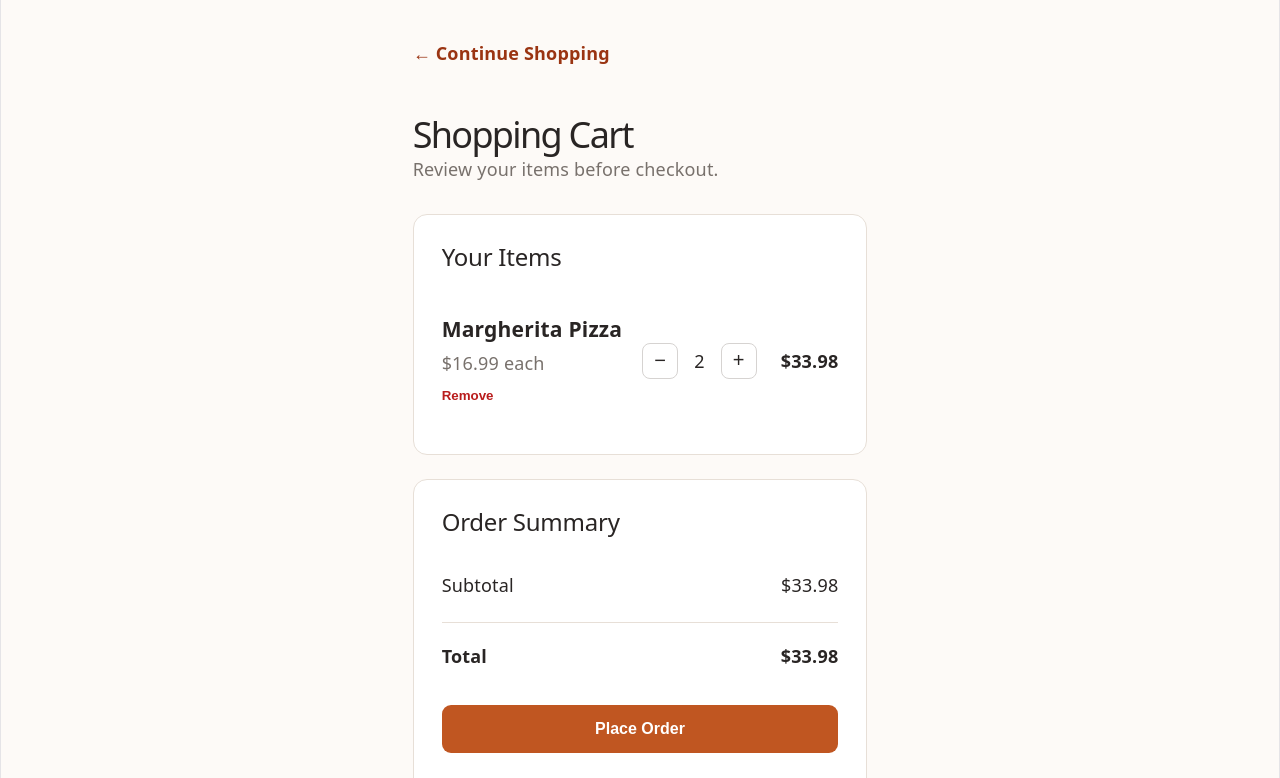
Shopping Cart › increases an item's quantity
Expected: the heading "Margherita Pizza" is shown, [442,316,622,342]
Click the button named "Increase Margherita Pizza quantity" at (739,361), box [721,343,757,379]
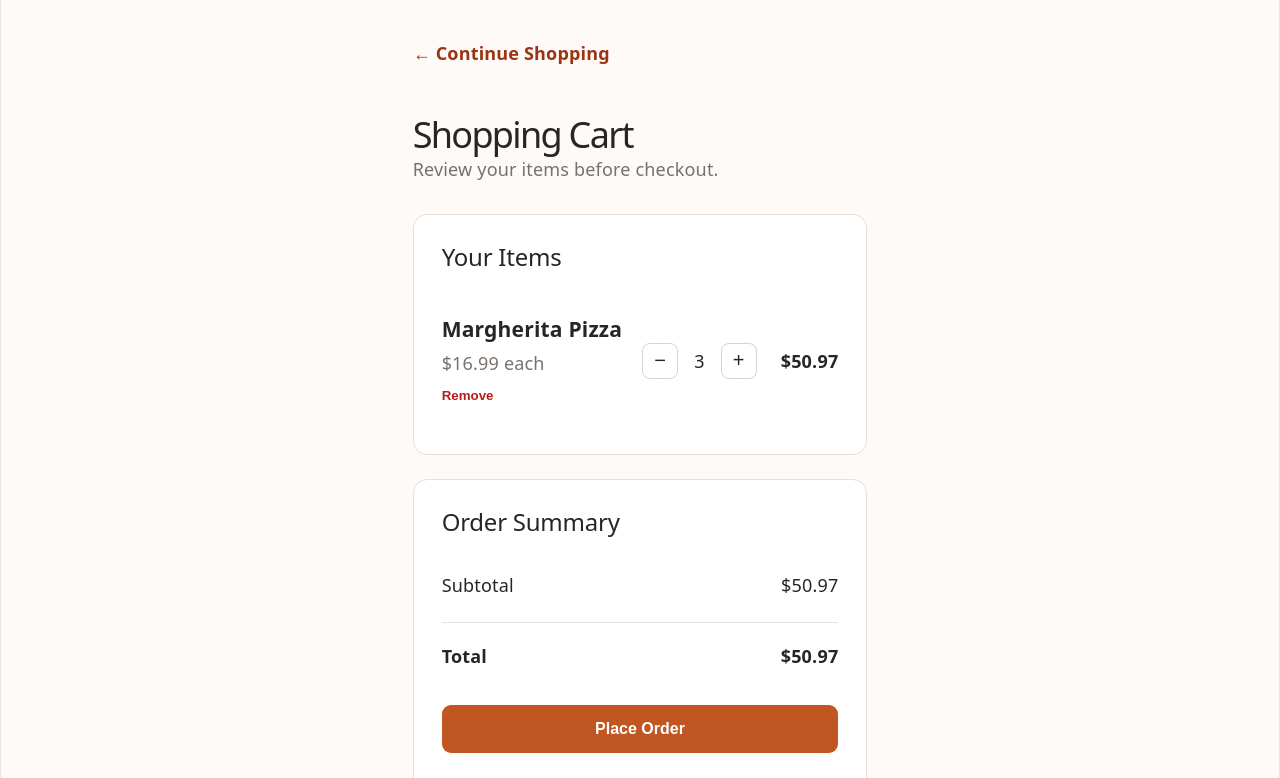
Result: the text "$50.97" in the row of "each" is shown at [781,349,838,373]
